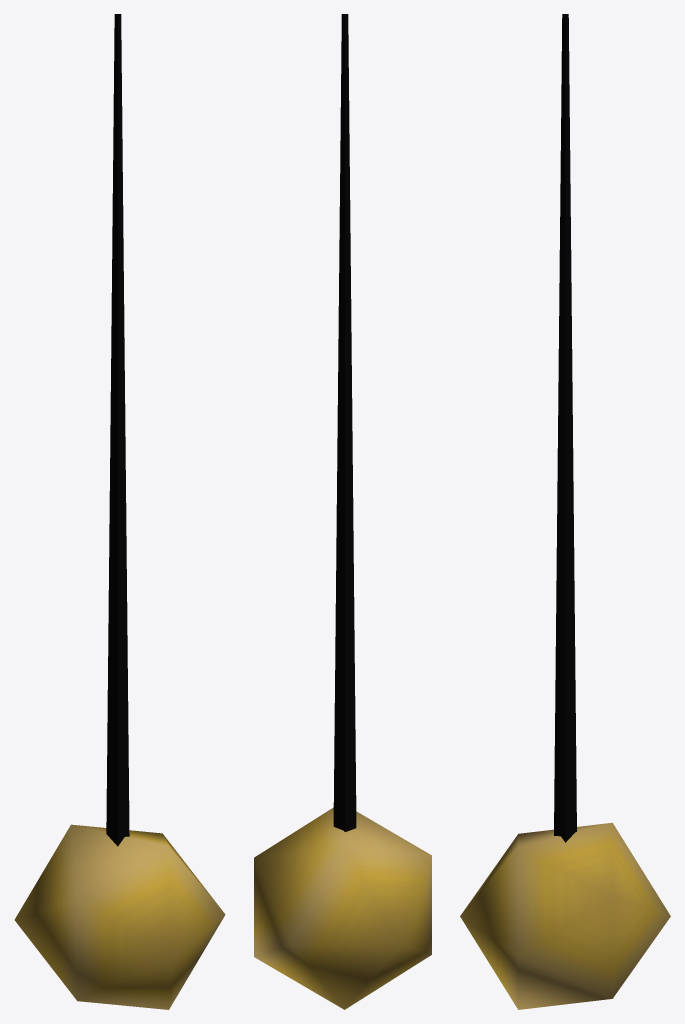
File: LampSphere_Yellow.fbx
3 renders of one model, left to right at view 1: azimuth 30°, elevation 25°; view 2: azimuth 150°, elevation 25°; view 3: azimuth 270°, elevation 25°, orthographic.
Visible parts, largest first — view 1: LampSphere_Yellow; view 2: LampSphere_Yellow; view 3: LampSphere_Yellow.
Part boxes in pixels (bbox=[...]): LampSphere_Yellow: bbox=[14, 14, 225, 1009]; LampSphere_Yellow: bbox=[254, 14, 431, 1009]; LampSphere_Yellow: bbox=[460, 14, 670, 1009].
Size of the model in its own units: 21.11 by 121 by 23.61.
